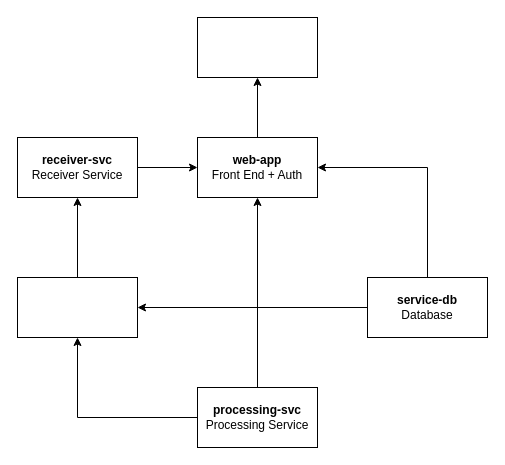
Some shapes in this 505 by 465 pixel diagram are drawn without their labels. The centre of each missing label's shape, as x and y in pixels:
storage-svc storage service: the point at 77,307
web-server Reverse Proxy: the point at 257,47
